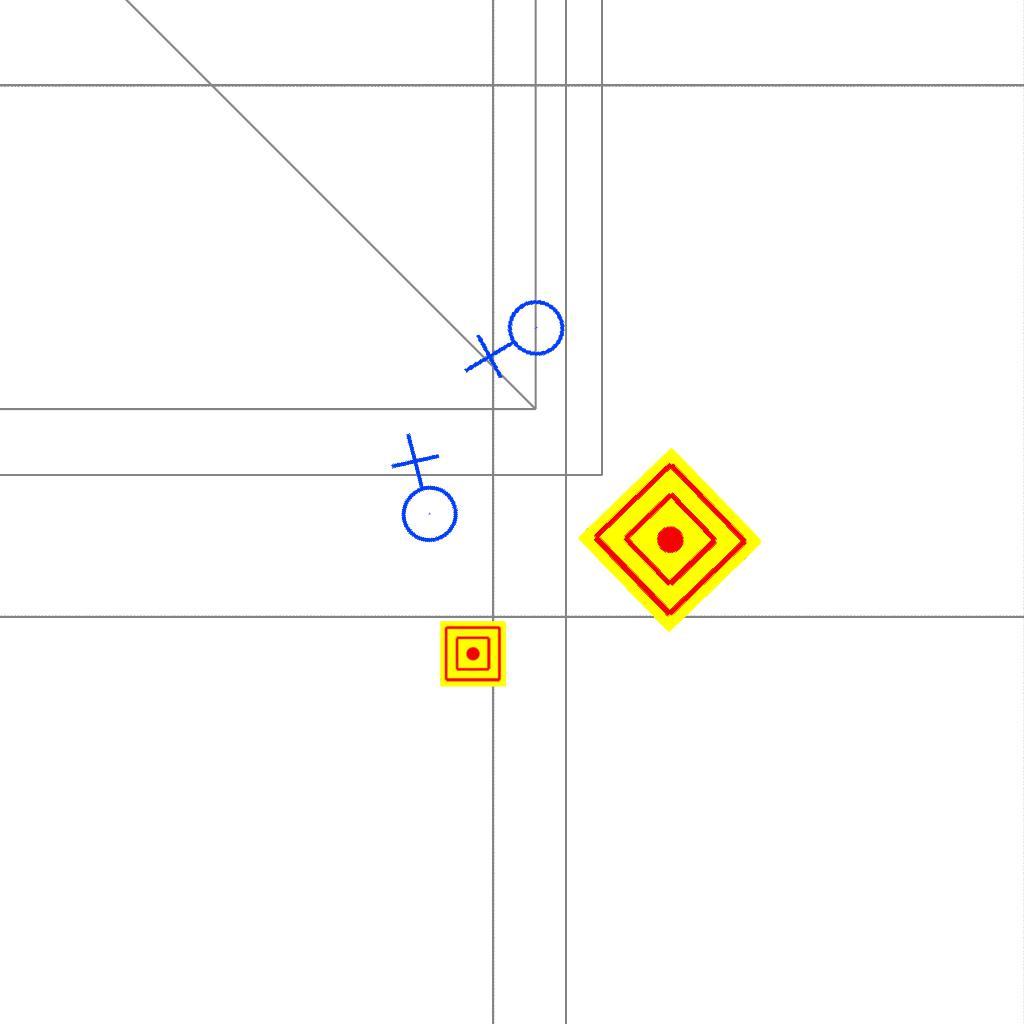Elektroanschluss_allgemein_230V_Geraeteanschlussdose_230V: (355, 428, 486, 562), (461, 285, 580, 399)
NAM-Nichtautomatischer_Melder: (576, 446, 764, 634), (440, 621, 506, 687)
